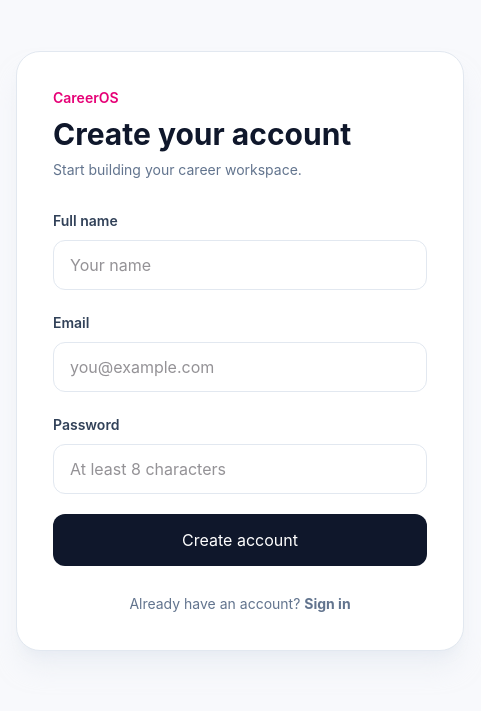
Test: Register › shows API error when registration fails
Type "Test User" into the field labelled "Full name" at (240, 265), box [53,240,427,290]
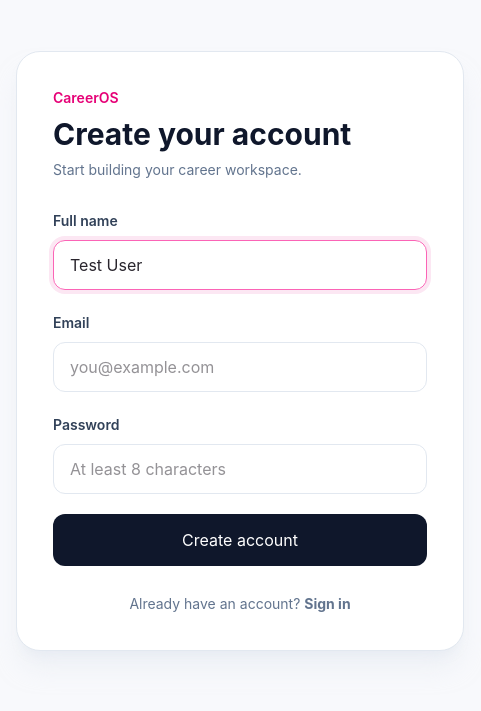
Type "test@example.com" into the field labelled "Email" at (240, 367), box [53,342,427,392]
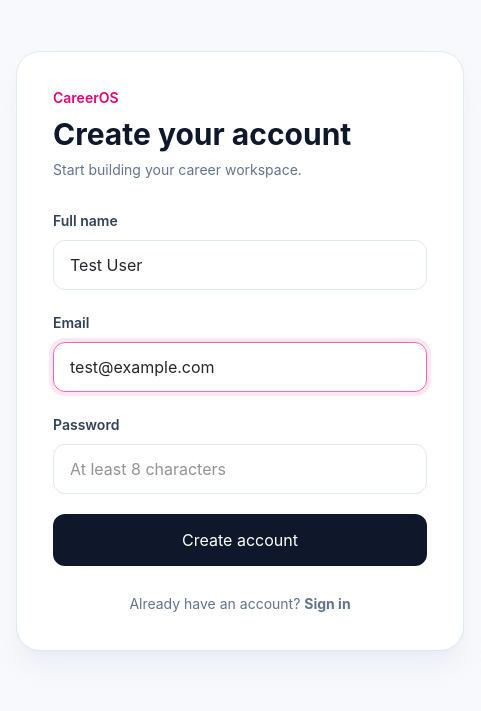
Type "password123" into the password field labelled "Password" at (240, 469), box [53,444,427,494]
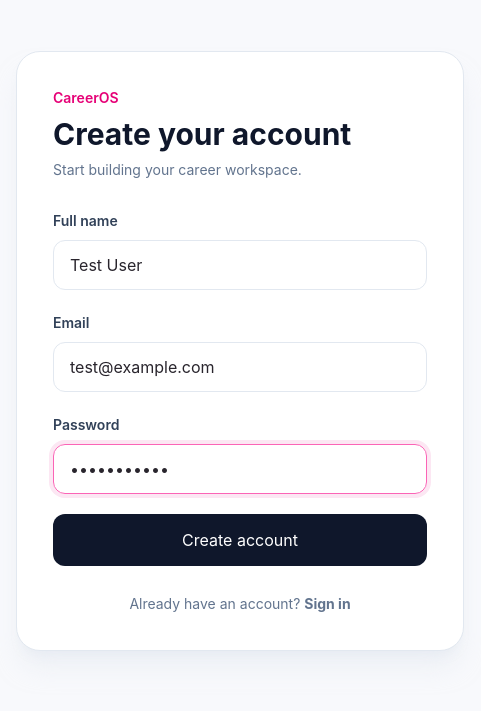
Click the button "Create account" at (240, 540), box [53,514,427,566]
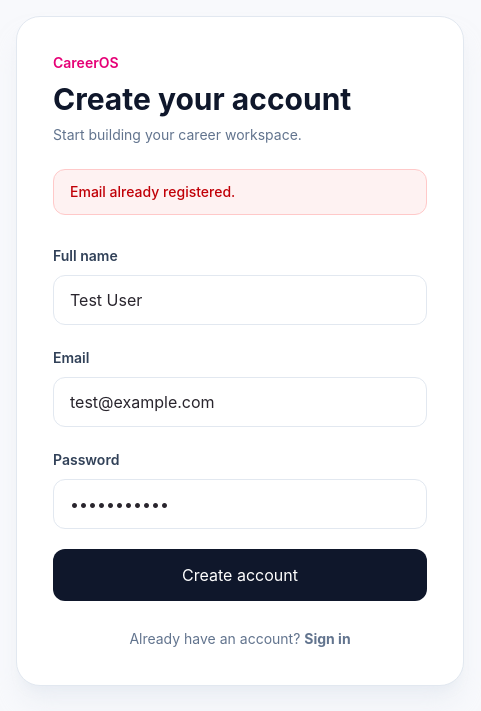
Expected: the text "Email already registered." is shown, [53,169,427,215]
